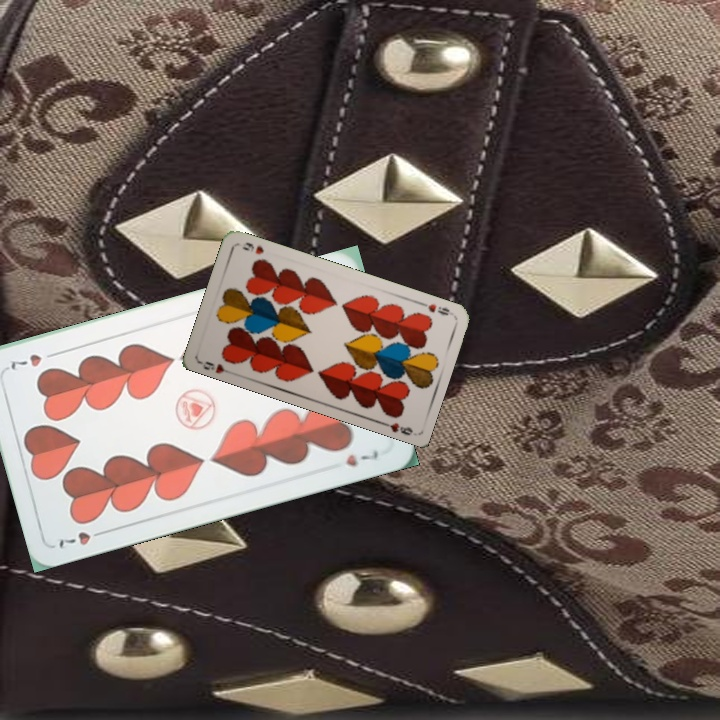H7: (55, 525, 110, 551)
H9: (415, 298, 452, 318), (200, 357, 227, 376)
